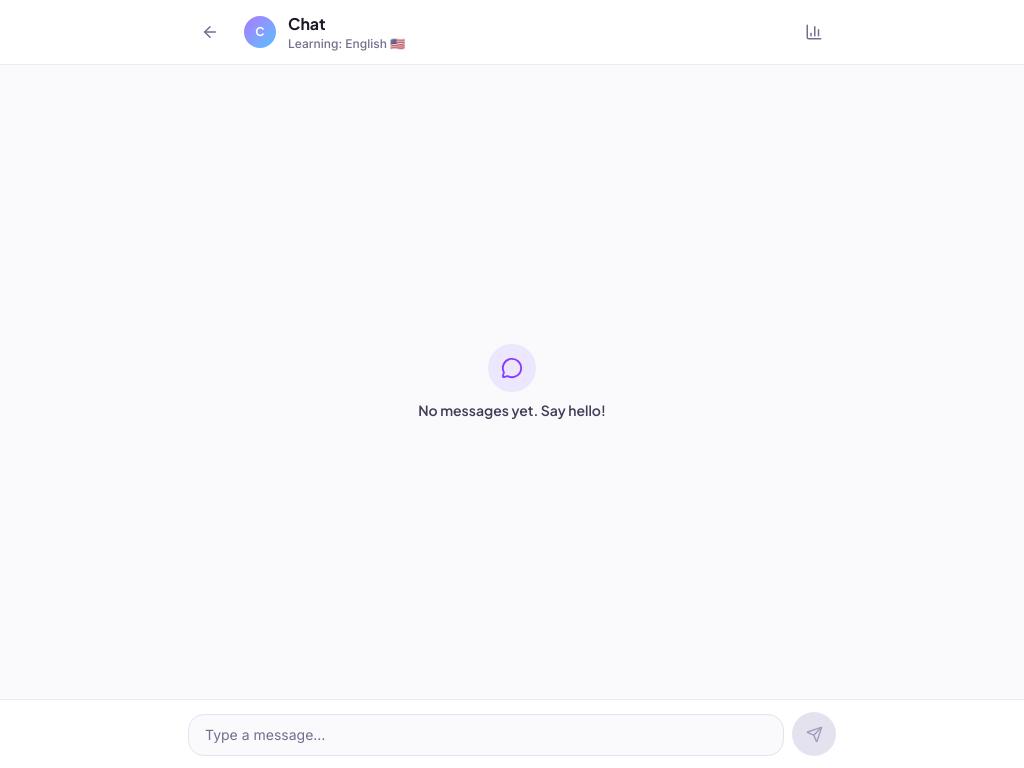
Test case: Chat / Envio de mensagens (Fatia 3) › digita mensagem e envia → aparece imediatamente no chat, antes do Supabase responder (otimista)
Expected: the text "No messages yet. Say hello!" is shown, [418,400,606,420]
Step 1. Type "Hello world" into the text box labelled "message" → (486, 735), box [188,714,784,756]
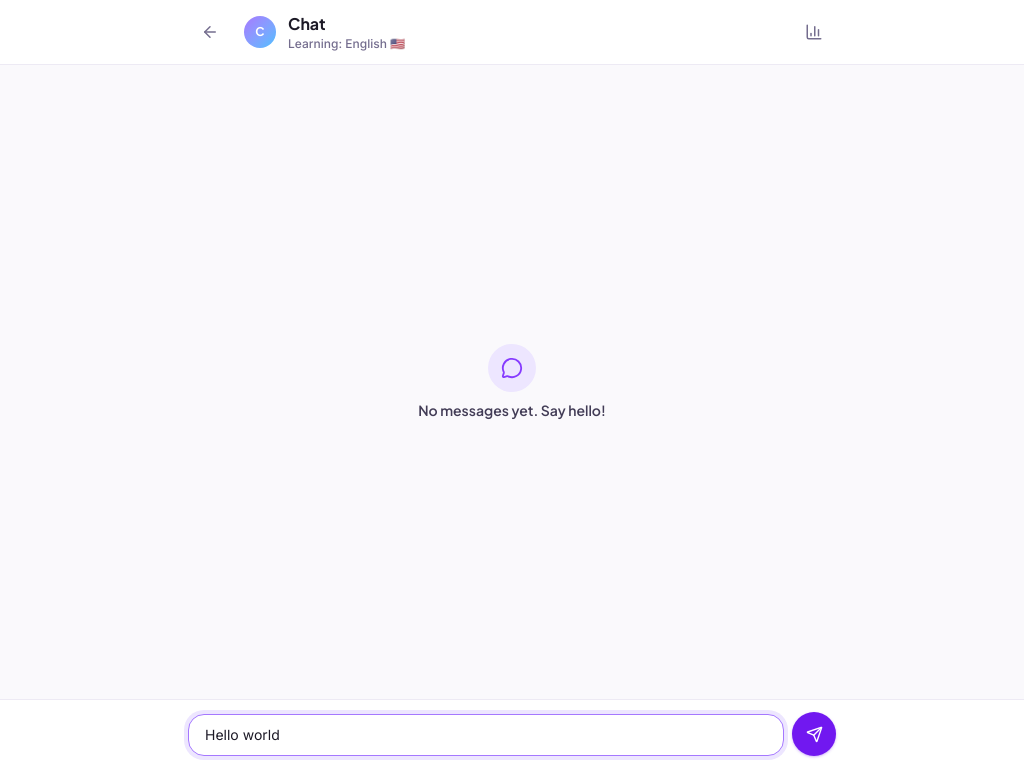
Step 2. Click the button named "Send" → (814, 734), box [792,712,836,756]
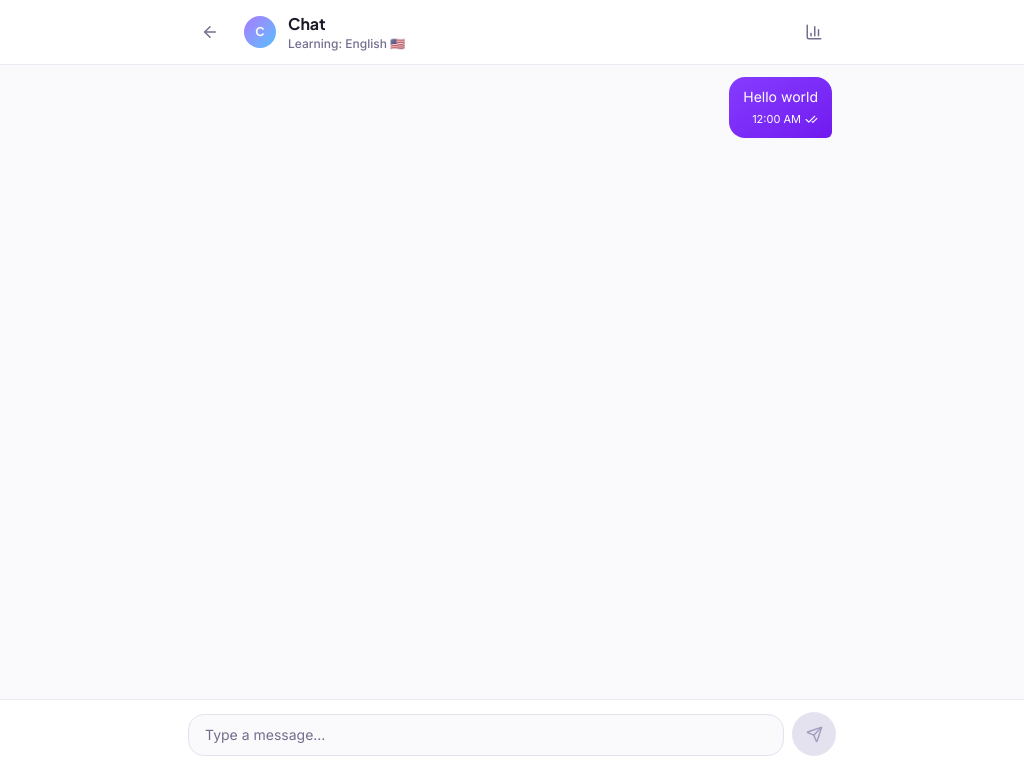
Expected: the text "Hello world" is shown, [743,87,818,107]
